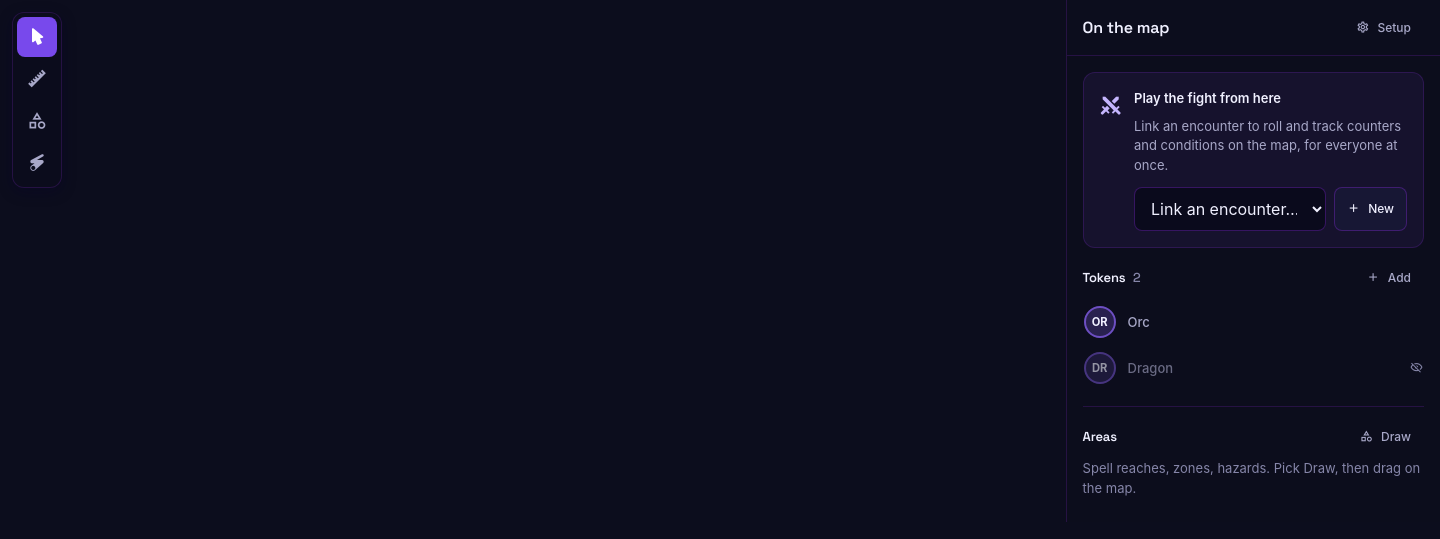
Scenario: BattlemapEditor › tools › says how the tool in hand is used
Click the button named "Measure": (37, 79) [17,59,57,99]
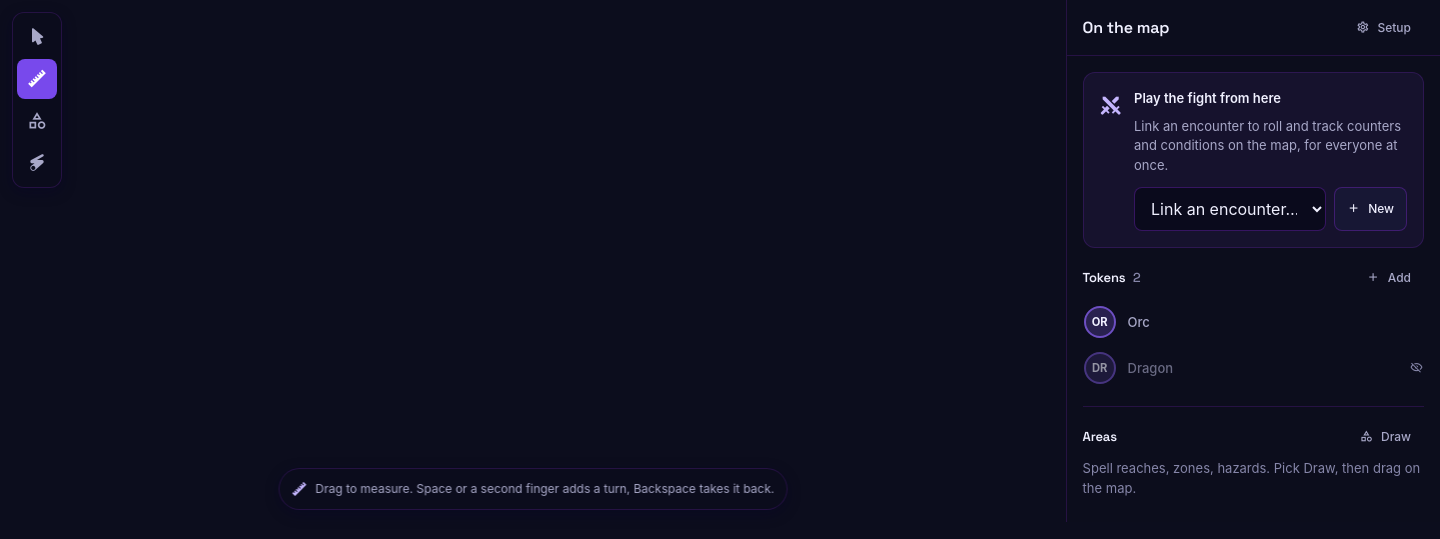
Expected: the message with class "hint" shows "Drag to measure", [315,481,774,496]
